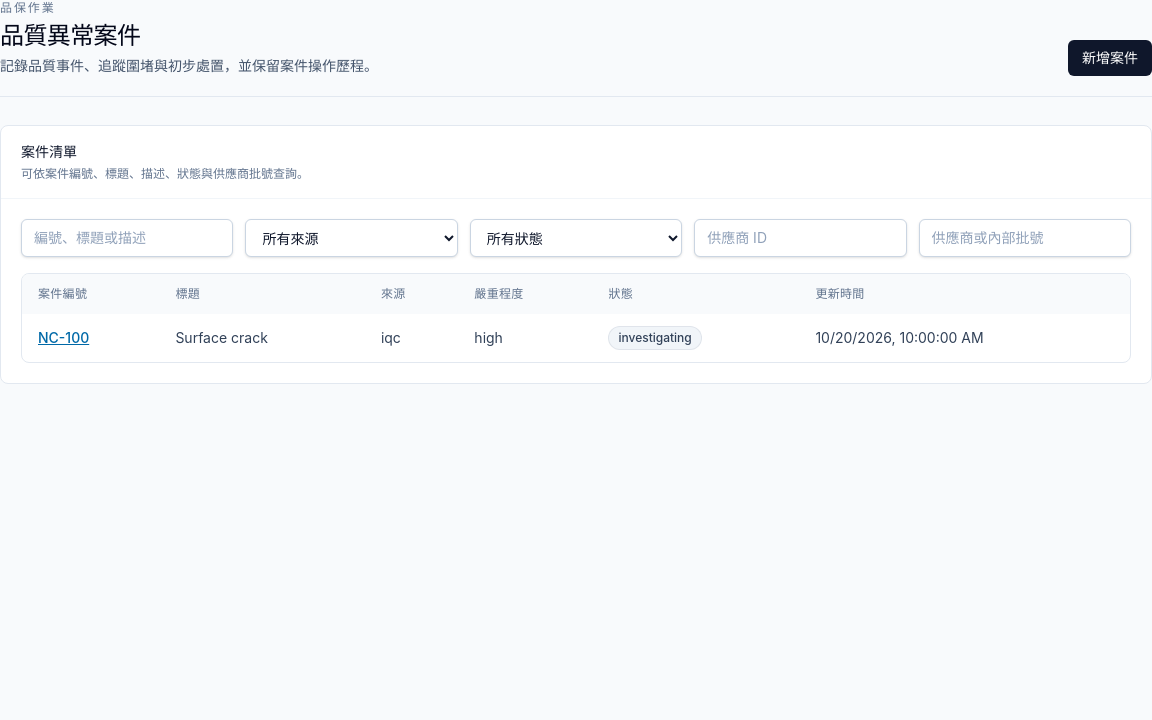
Test: NonconformancePage › loads a case list and shows the selected case detail and history panel
Click the button "NC-100".
click(64, 338)  # box [38, 328, 89, 348]
(page scrolled)
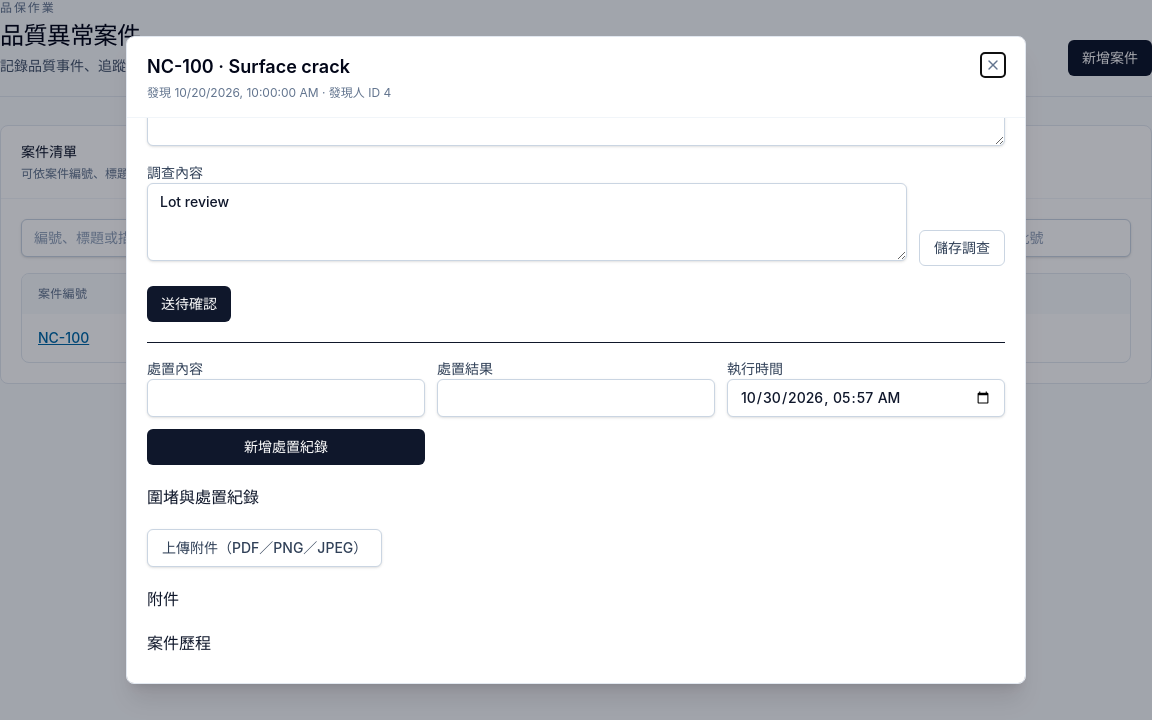
Check: the heading "NC-100 · Surface crack" is shown, box [147, 56, 350, 77]
Check: the text box labelled "調查內容" holds "Lot review", box [147, 183, 907, 261]
Check: the heading "案件歷程" is shown, box [147, 633, 211, 653]
